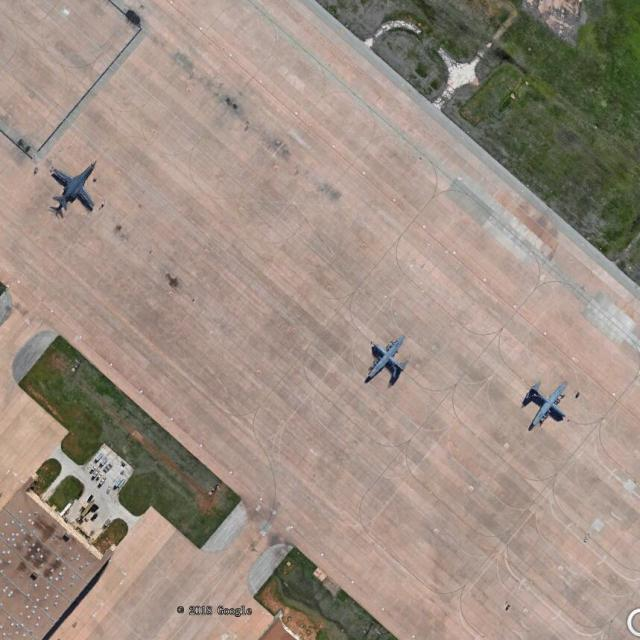fighter jet: (41, 156, 104, 220), (520, 378, 572, 432), (361, 334, 410, 391)
